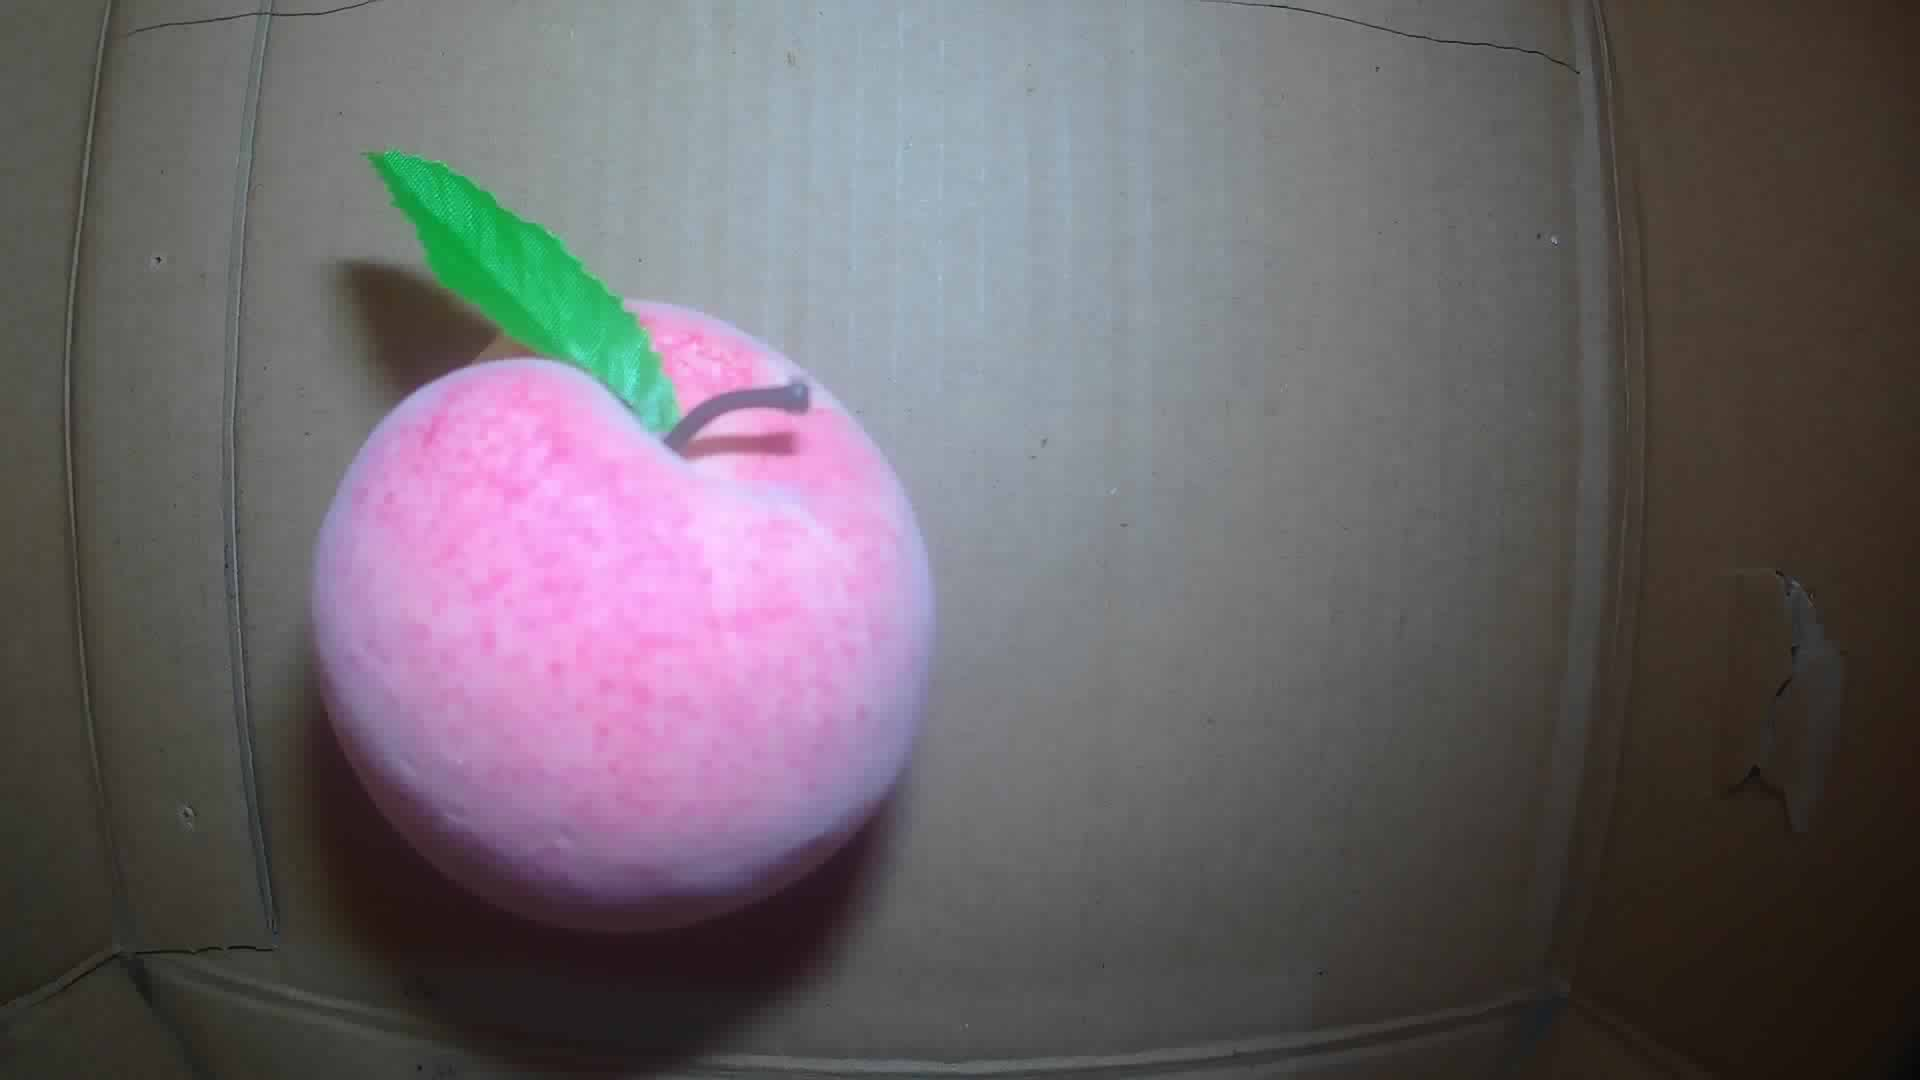peach: (303, 297, 938, 936)
